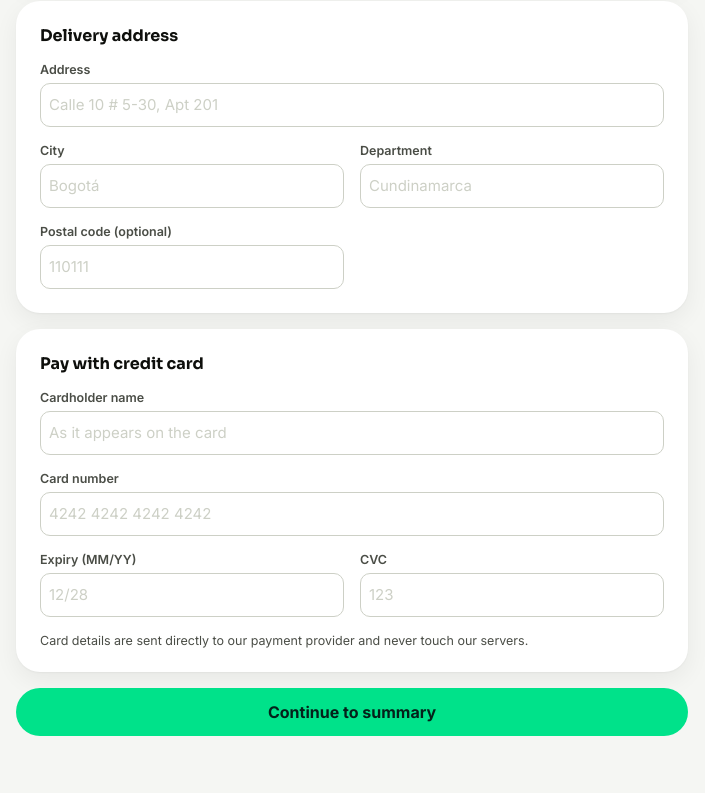
Test case: CheckoutPage › shows validation errors and does not submit when required fields are missing
(page scrolled)
Click the button "Continue to summary" at (352, 712), box [16,688,688,736]
(page scrolled)
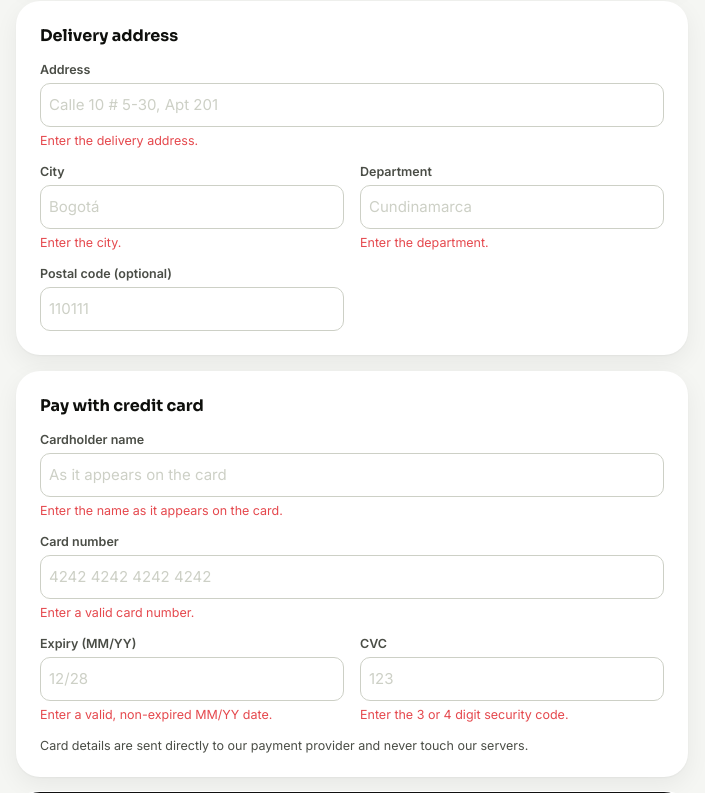
Expected: the text "Enter a valid card number." is shown, [40,604,194,620]
